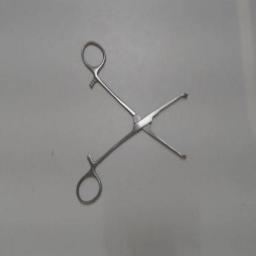Allis Tissue Forceps: (72, 36, 194, 210)
